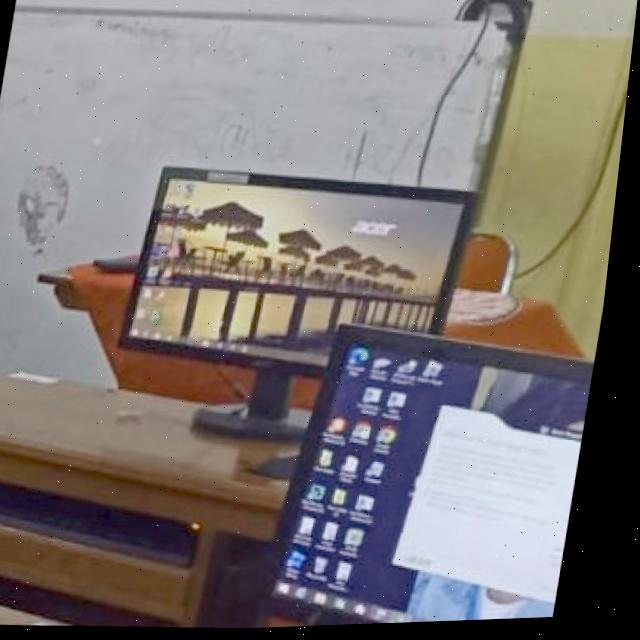onscreen: (289, 330, 603, 627), (135, 170, 468, 372), (19, 0, 469, 25)
